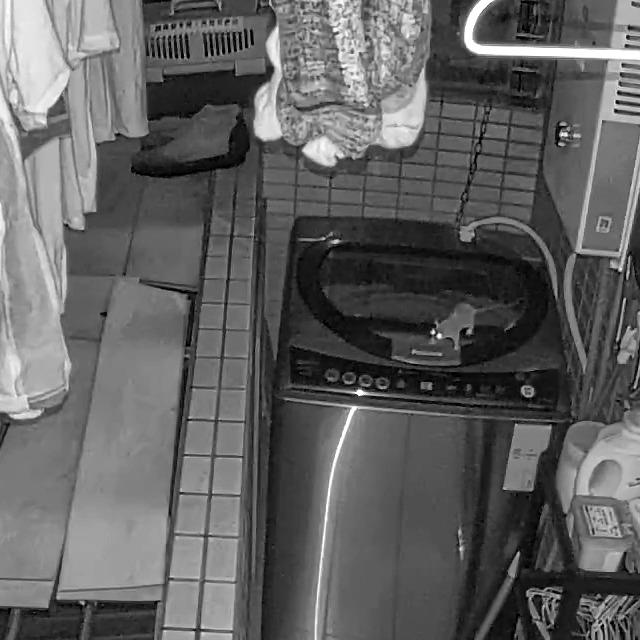rat: (428, 299, 526, 349)
